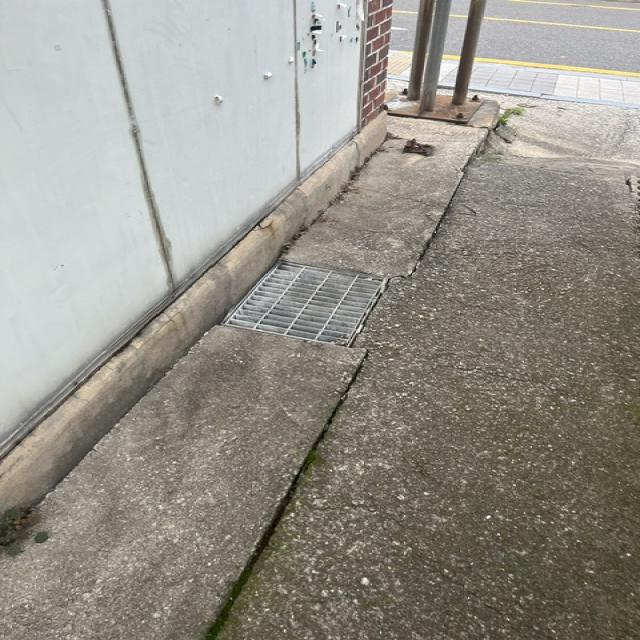drain_area: (223, 262, 381, 344)
drain_full: (223, 262, 387, 348)
